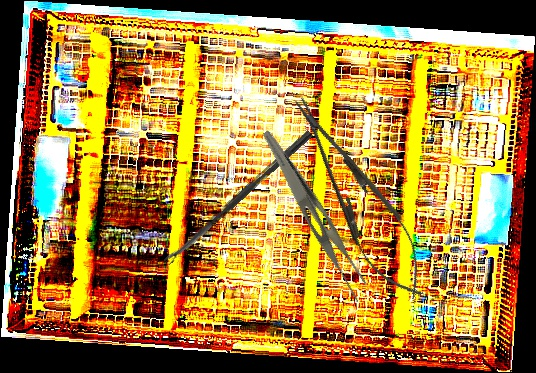Dressing Forceps: (244, 128, 380, 305)
Needle Holder: (276, 84, 442, 311)
Surgical Spoon: (162, 129, 314, 266)
